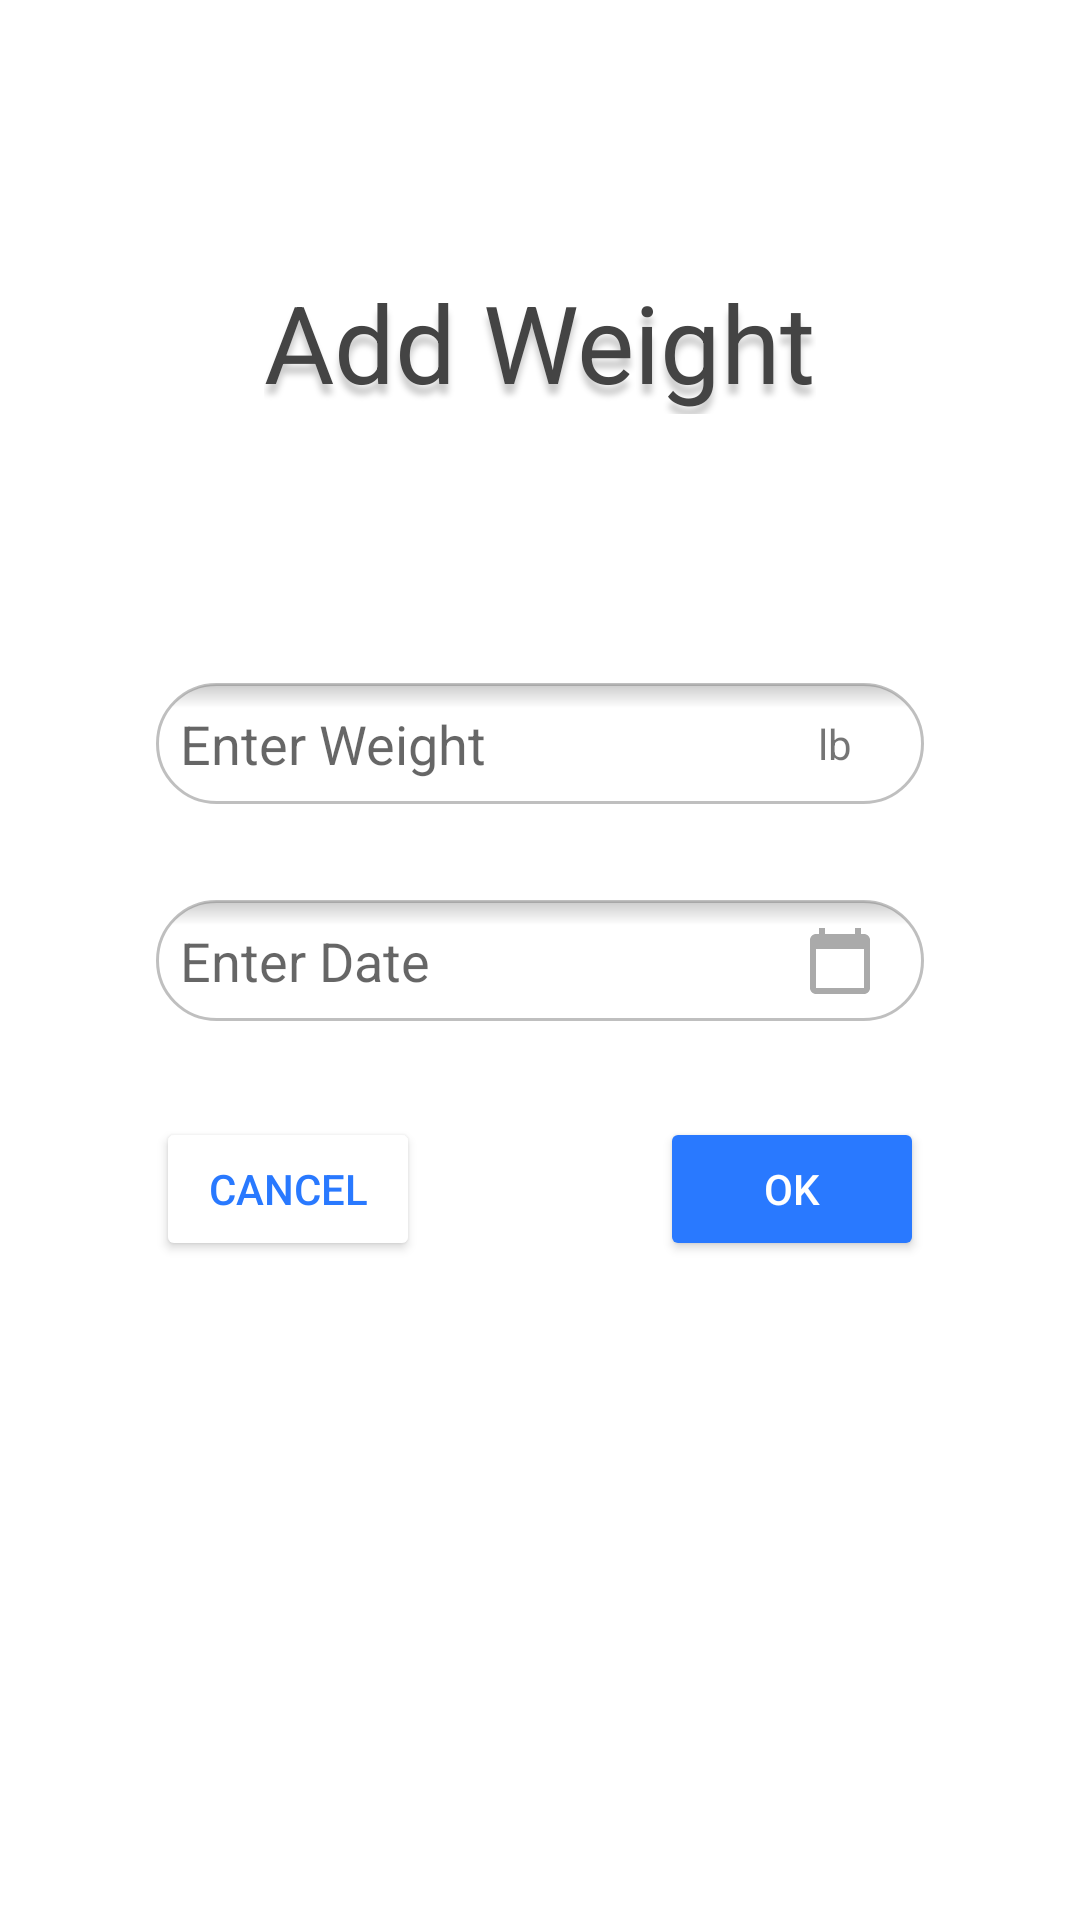

Icons on this 1080×1920 Android screen, each with its box as (x1, y1, x2, y2):
calendar icon: (810, 928, 870, 994)
